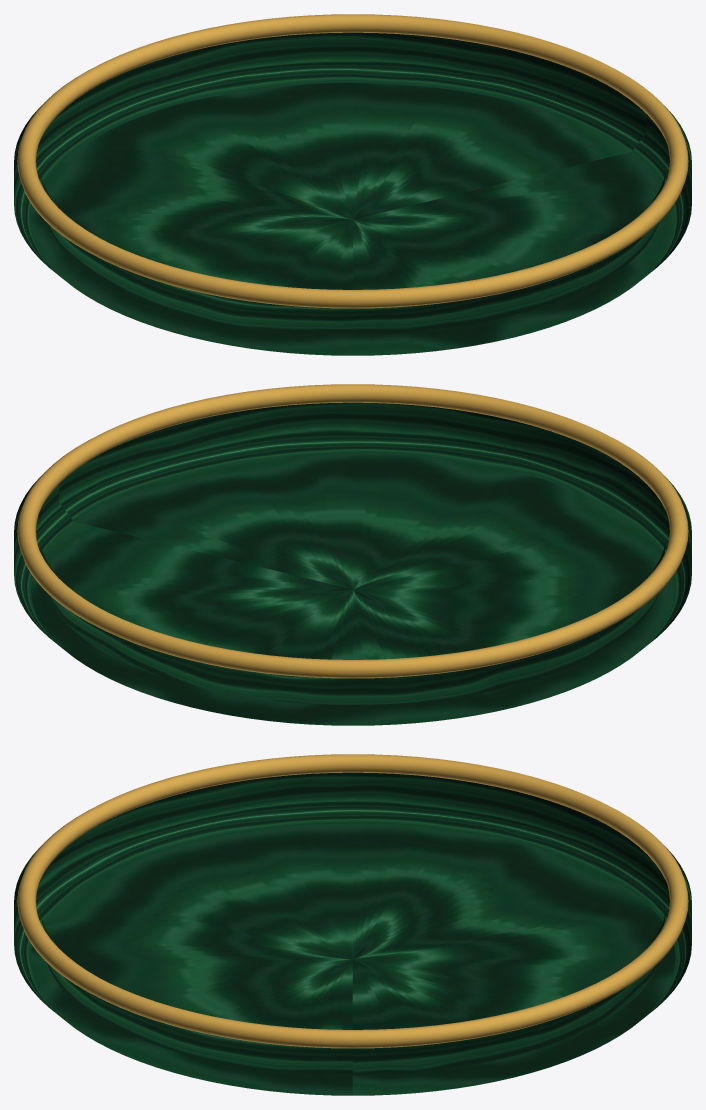
Rendered from tray.glb.
The picture shows the model from 3 angles, top to bottom: view 1: azimuth 30°, elevation 25°; view 2: azimuth 150°, elevation 25°; view 3: azimuth 270°, elevation 25°; orthographic projection.
Visible parts, largest first — view 1: tray; view 2: tray; view 3: tray.
Part boxes in pixels (x1=…): tray: x1=14, y1=14, x2=691, y2=355; tray: x1=14, y1=384, x2=691, y2=725; tray: x1=14, y1=754, x2=691, y2=1095.
Size of the model in its own units: 0.16 by 0.0173 by 0.16.
2 materials, 1 textured.
